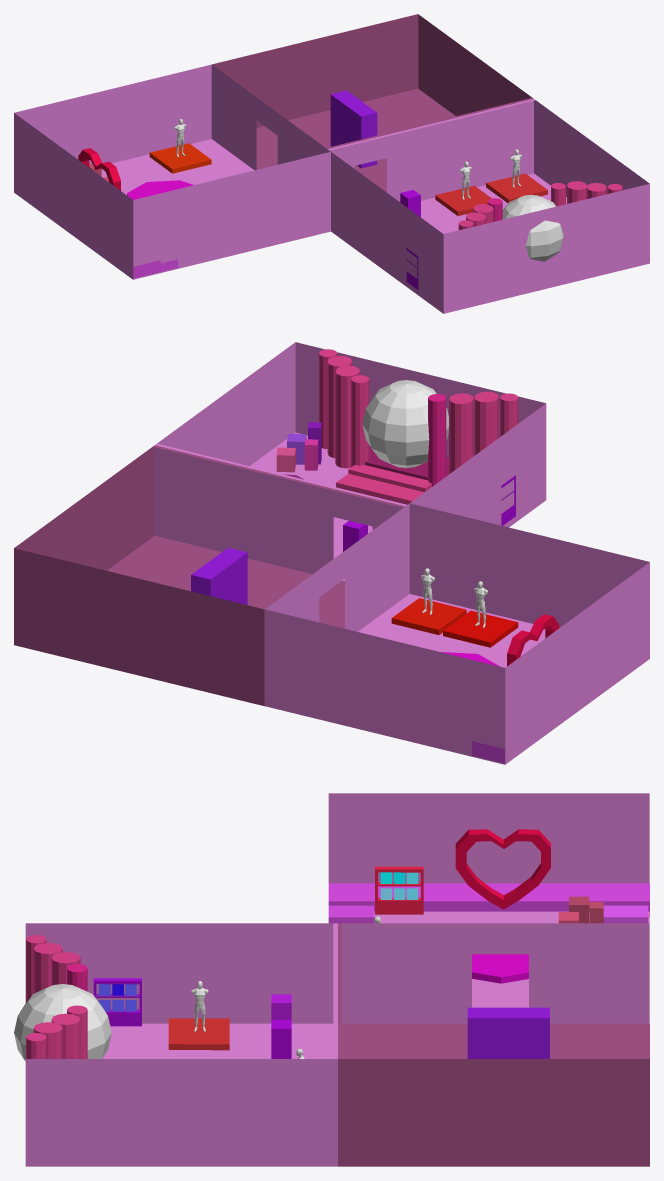
The model's file is popmuseum.glb.
3 views of the same model, one above another, from view 1: azimuth 30°, elevation 25°; view 2: azimuth 150°, elevation 25°; view 3: azimuth 270°, elevation 25° (orthographic). The views are drawn at different scales.
Parts seen in each view (by area): view 1: Cuarto Chappel, Cuarto Ariana, Cube.028, Pilar entrada, Sphere, Cube.018, Cube.004, Cube.006, Cylinder.009, Plane.010; view 2: Cuarto Chappel, Cuarto Ariana, Cube.028, Sphere, Pilar entrada, Cylinder.003, Cylinder.002, Cube.017, Cube.016, Cylinder, Cylinder.001, Cylinder.005 (+7 smaller); view 3: Cuarto Ariana, Cuarto Chappel, Cube.028, Cube.025, Pilar entrada, Sphere, Plane.010, Cube.005, Cylinder.009, Estanteria Chappel, Estanteria Ariana, Cylinder.005 (+9 smaller).
Part boxes in pixels (left/top/right/bottom): Cuarto Chappel: left=14, top=64, right=330, bottom=279; Cuarto Ariana: left=328, top=99, right=649, bottom=313; Cube.028: left=212, top=14, right=533, bottom=192; Pilar entrada: left=330, top=90, right=377, bottom=168; Sphere: left=502, top=194, right=563, bottom=261; Cube.018: left=149, top=143, right=211, bottom=173; Cube.004: left=486, top=173, right=547, bottom=202; Cube.006: left=435, top=185, right=491, bottom=215; Cylinder.009: left=127, top=180, right=193, bottom=199; Plane.010: left=78, top=148, right=120, bottom=190; Cuarto Chappel: left=265, top=503, right=649, bottom=764; Cuarto Ariana: left=154, top=342, right=546, bottom=581; Cube.028: left=14, top=445, right=404, bottom=706; Sphere: left=362, top=380, right=448, bottom=467; Pilar entrada: left=191, top=547, right=247, bottom=604; Cylinder.003: left=449, top=393, right=473, bottom=474; Cylinder.002: left=335, top=365, right=359, bottom=468; Cube.017: left=443, top=610, right=518, bottom=647; Cube.016: left=391, top=598, right=466, bottom=634; Cylinder: left=428, top=394, right=446, bottom=486; Cylinder.001: left=351, top=375, right=369, bottom=467; Cylinder.005: left=474, top=391, right=498, bottom=455; Cuarto Ariana: left=25, top=923, right=337, bottom=1166; Cuarto Chappel: left=328, top=793, right=649, bottom=1023; Cube.028: left=338, top=923, right=649, bottom=1166; Cube.025: left=328, top=883, right=649, bottom=916; Pilar entrada: left=467, top=1007, right=549, bottom=1058; Sphere: left=14, top=984, right=111, bottom=1061; Plane.010: left=455, top=829, right=550, bottom=909; Cube.005: left=168, top=1018, right=229, bottom=1050; Cylinder.009: left=472, top=954, right=528, bottom=983; Estanteria Chappel: left=375, top=866, right=423, bottom=914; Estanteria Ariana: left=93, top=978, right=141, bottom=1026; Cylinder.005: left=33, top=943, right=62, bottom=993.
Size of the model in its own units: 15.76 by 3.02 by 15.95.
